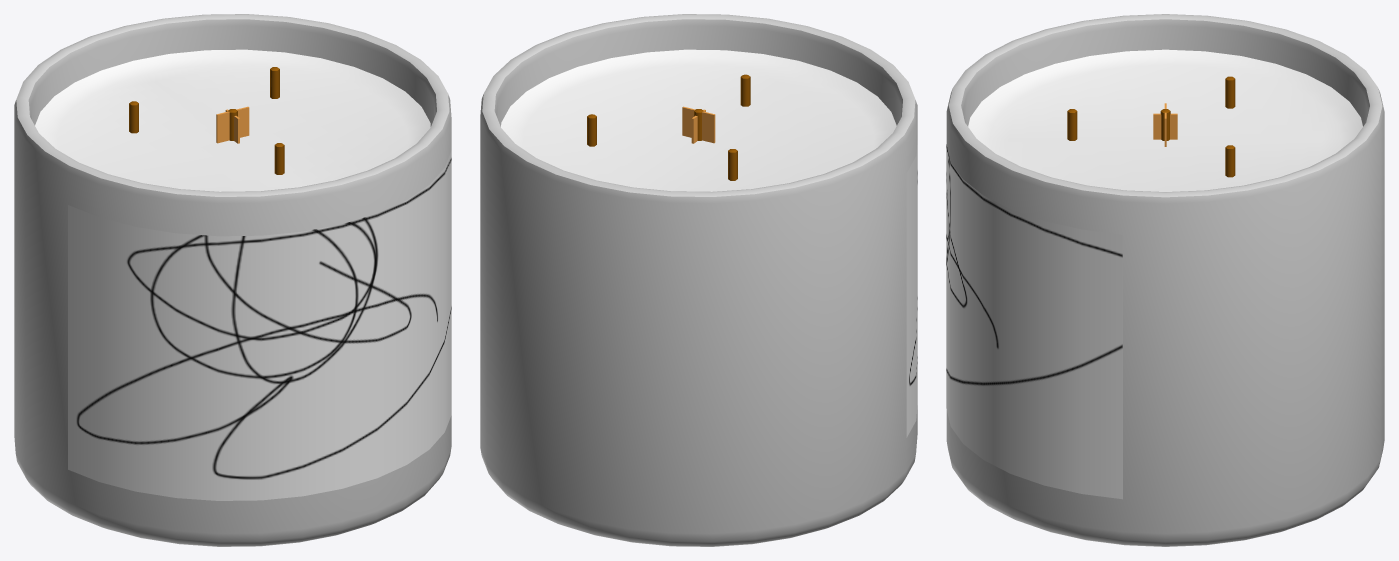
Rendered from Candle_widel.gltf.
3 renders of one model, left to right at view 1: azimuth 30°, elevation 25°; view 2: azimuth 150°, elevation 25°; view 3: azimuth 270°, elevation 25°, orthographic.
Parts seen in each view (by area): view 1: wrap, container, wax, tripleWick, woodWick; view 2: container, wax, wrap, tripleWick, woodWick; view 3: container, wrap, wax, tripleWick, woodWick.
Boxes of the visible parts, x1,y1,x2,y2 form: wrap: [68, 150, 451, 500]; container: [14, 14, 451, 546]; wax: [35, 49, 430, 191]; tripleWick: [129, 67, 284, 174]; woodWick: [216, 106, 249, 143]; container: [480, 14, 917, 546]; wax: [501, 49, 896, 191]; wrap: [906, 141, 917, 437]; tripleWick: [587, 74, 750, 180]; woodWick: [682, 106, 715, 143]; container: [946, 14, 1384, 546]; wrap: [946, 144, 1122, 499]; wax: [968, 49, 1362, 191]; tripleWick: [1067, 76, 1235, 177]; woodWick: [1153, 103, 1177, 146].
Bounding box in the file's own units: 0.2 × 0.18 × 0.2001.
Materials: 5 (1 with a texture image).
